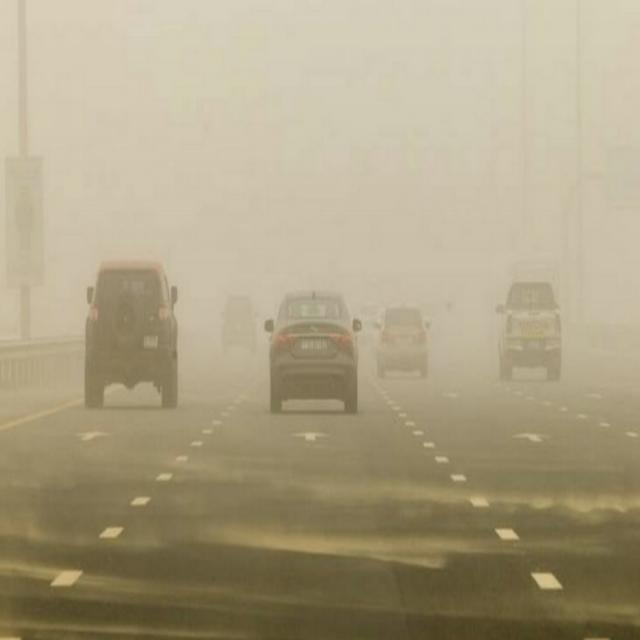car: (84, 257, 180, 411), (267, 292, 359, 412), (495, 281, 563, 382), (376, 306, 428, 378), (218, 292, 260, 351), (357, 300, 383, 346)
